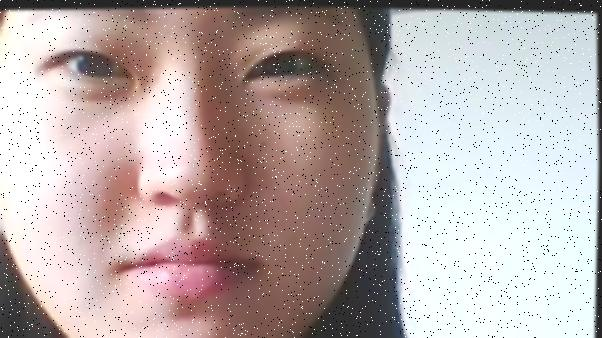eye: (77, 47, 113, 80), (260, 48, 294, 79)
iris: (60, 50, 134, 81), (249, 48, 316, 80)
